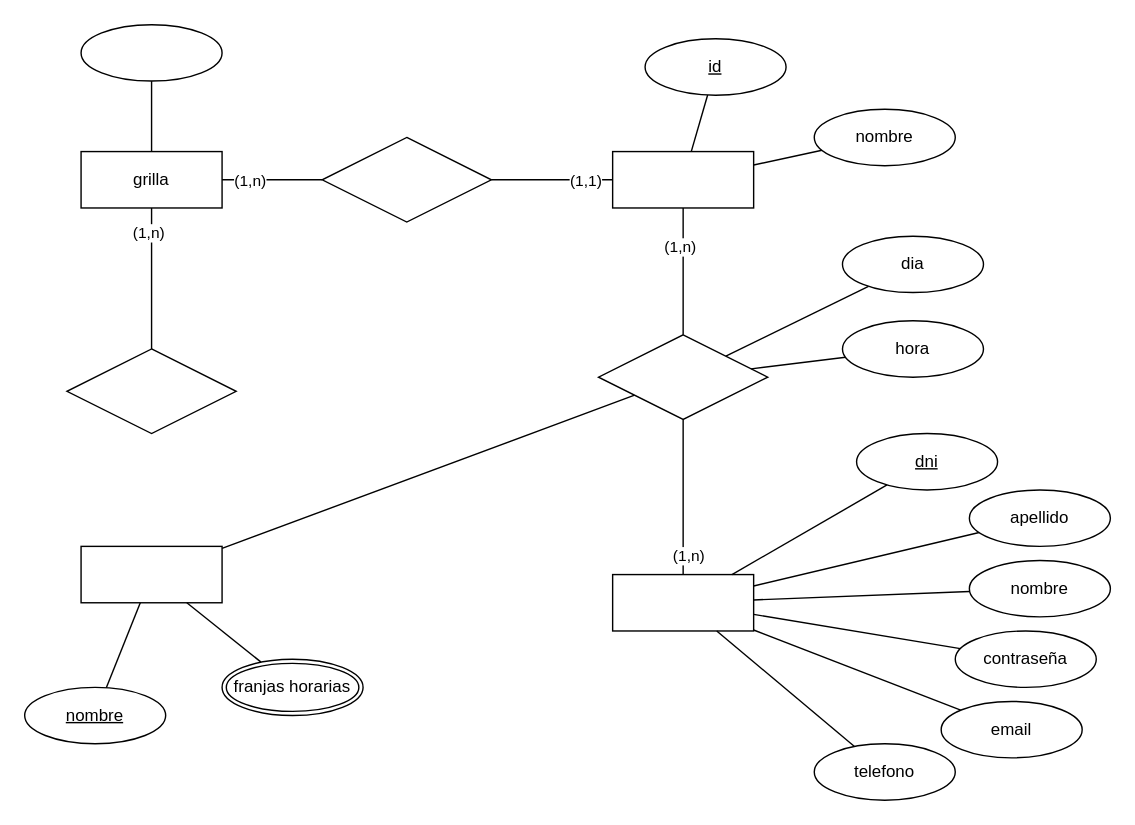
Image size: 1135x825. Some labels were removed from this diagram. The centre of each missing label's shape, as x and y in pixels:
"actividad" goes at (x=682, y=179).
"asiste" goes at (x=682, y=376).
"cliente" goes at (x=682, y=602).
"contiene" goes at (x=151, y=391).
"dias" goes at (x=151, y=574).
"nro semana" goes at (x=151, y=52).
"pertenece" goes at (x=406, y=179).
